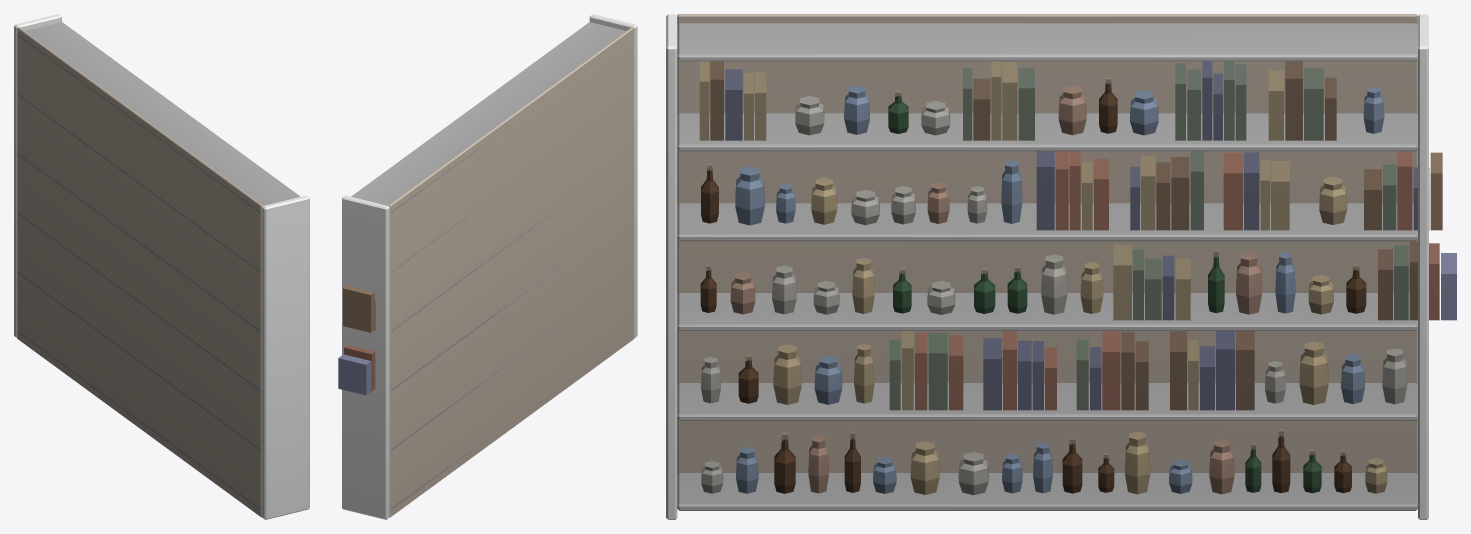
The model's file is apothecary_shelf.glb.
The picture shows the model from 3 angles, left to right: view 1: azimuth 30°, elevation 25°; view 2: azimuth 150°, elevation 25°; view 3: azimuth 270°, elevation 25°; orthographic projection. The views are drawn at different scales.
Visible parts, largest first — view 1: book; view 2: book; view 3: book.
Boxes of the visible parts, x1,y1,x2,y2 form: book: (14,14,309,519); book: (338,14,637,519); book: (666,14,1456,519).
Bounding box in the file's own units: 0.36 × 2.35 × 3.56.
